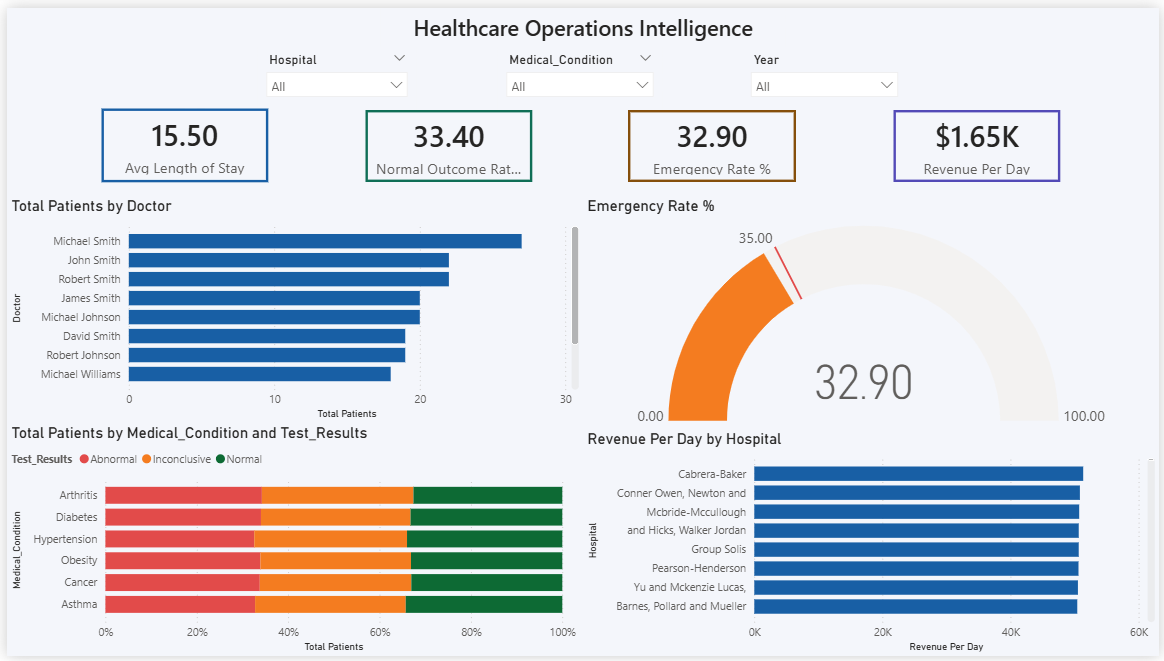

What the dashboard file says about the page in this screenshot:
{"tool":"powerbi","page":{"name":"operational_intelligence","canvas":[1280,720],"ordinal":2},"visuals":[{"type":"clusteredBarChart","fields":{"Category":["healthcare_dataset.Hospital"],"Y":["healthcare_dataset.Revenue Per Day"]},"box":[640,468.3,640,251.7],"z":4000},{"type":"gauge","fields":{"Y":["healthcare_dataset.Emergency Rate %"]},"box":[640,210,640,258.3],"z":5000},{"type":"hundredPercentStackedBarChart","fields":{"Category":["healthcare_dataset.Medical_Condition"],"Y":["healthcare_dataset.Total Patients"],"Series":["healthcare_dataset.Test_Results"]},"box":[0,461.7,636.7,258.3],"z":6000},{"type":"clusteredBarChart","fields":{"Category":["healthcare_dataset.Doctor"],"Y":["healthcare_dataset.Total Patients"]},"box":[0,210,640,251.7],"z":7000},{"type":"slicer","fields":{"Values":["healthcare_dataset.Medical_Condition"]},"box":[544.2,43.3,183.3,70],"z":11000},{"type":"slicer","fields":{"Values":["healthcare_dataset.Hospital"]},"box":[278.3,43.3,176.7,70],"z":12000},{"type":"slicer","fields":{"Values":["DateTable.Year"]},"box":[816.7,43.3,183.3,70],"z":13000},{"type":"card","fields":{"Values":["healthcare_dataset.Avg Length of Stay"]},"box":[105,111.7,185,81.7],"z":14000},{"type":"card","fields":{"Values":["healthcare_dataset.Normal Outcome Rate %"]},"box":[398.3,113.3,185,80],"z":15000},{"type":"card","fields":{"Values":["healthcare_dataset.Emergency Rate %"]},"box":[690,113.3,186.7,80],"z":16000},{"type":"card","fields":{"Values":["healthcare_dataset.Revenue Per Day"]},"box":[985,113.3,185,80],"z":17000},{"type":"textbox","box":[415,0,450,43.3],"z":18000}]}

Visuals, with their boxes in screenshot pixels (x1, y1, x2, y2), scaled from the page's 1280x720 canvas onto the 1164x661 screenshot:
clusteredBarChart - healthcare_dataset.Hospital x healthcare_dataset.Revenue Per Day: select_region(582, 430, 1163, 660)
gauge - healthcare_dataset.Emergency Rate %: select_region(582, 193, 1163, 430)
hundredPercentStackedBarChart - healthcare_dataset.Medical_Condition x healthcare_dataset.Total Patients: select_region(0, 424, 579, 660)
clusteredBarChart - healthcare_dataset.Doctor x healthcare_dataset.Total Patients: select_region(0, 193, 582, 424)
slicer - healthcare_dataset.Medical_Condition: select_region(495, 40, 662, 104)
slicer - healthcare_dataset.Hospital: select_region(253, 40, 414, 104)
slicer - DateTable.Year: select_region(743, 40, 909, 104)
card - healthcare_dataset.Avg Length of Stay: select_region(95, 103, 264, 178)
card - healthcare_dataset.Normal Outcome Rate %: select_region(362, 104, 530, 177)
card - healthcare_dataset.Emergency Rate %: select_region(627, 104, 797, 177)
card - healthcare_dataset.Revenue Per Day: select_region(896, 104, 1064, 177)
textbox: select_region(377, 0, 787, 40)
